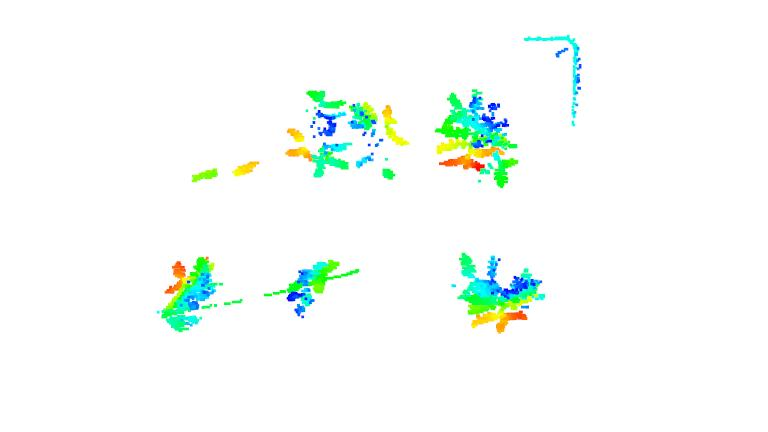chickpea: (431, 89, 518, 189), (457, 251, 549, 339), (284, 87, 347, 181), (351, 97, 412, 188), (152, 256, 221, 335), (276, 254, 341, 317), (183, 159, 261, 195)
